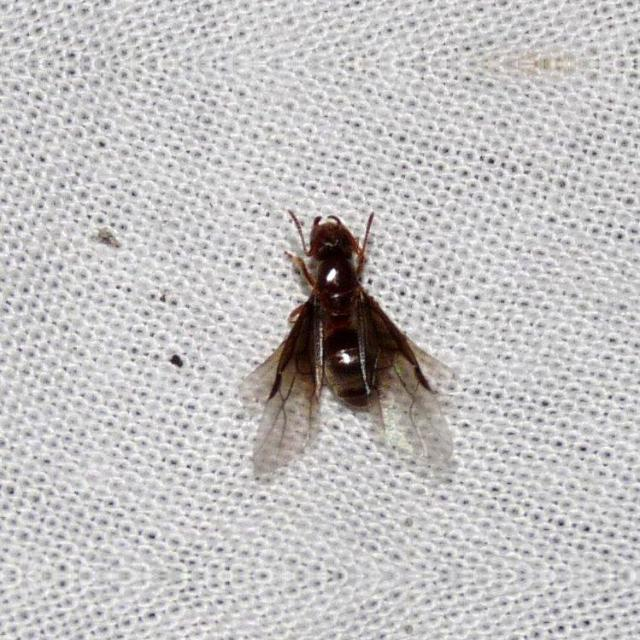Lasius: (242, 206, 460, 458)
